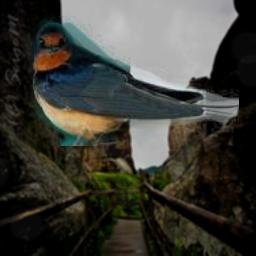Swallow: (26, 16, 239, 146)
